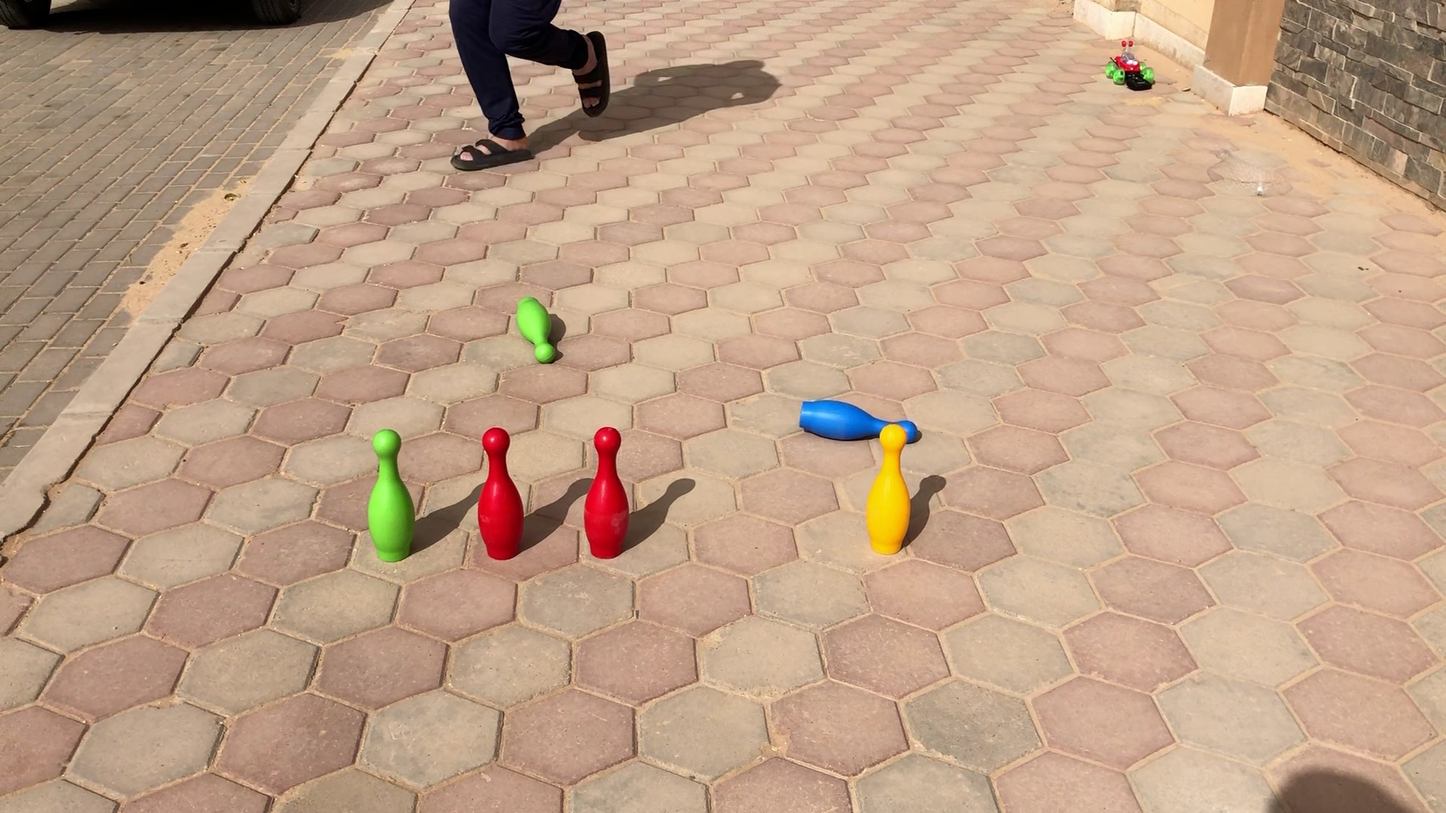pin: (794, 387, 923, 447), (474, 428, 525, 560), (365, 430, 414, 560), (868, 425, 914, 553), (584, 427, 628, 559), (508, 292, 561, 368)
